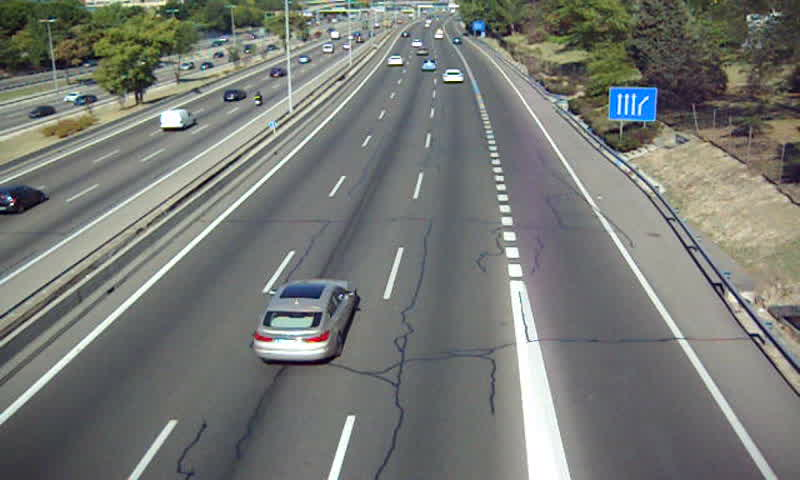car: (255, 280, 359, 361), (442, 68, 465, 84), (387, 55, 405, 68), (421, 57, 437, 71)
